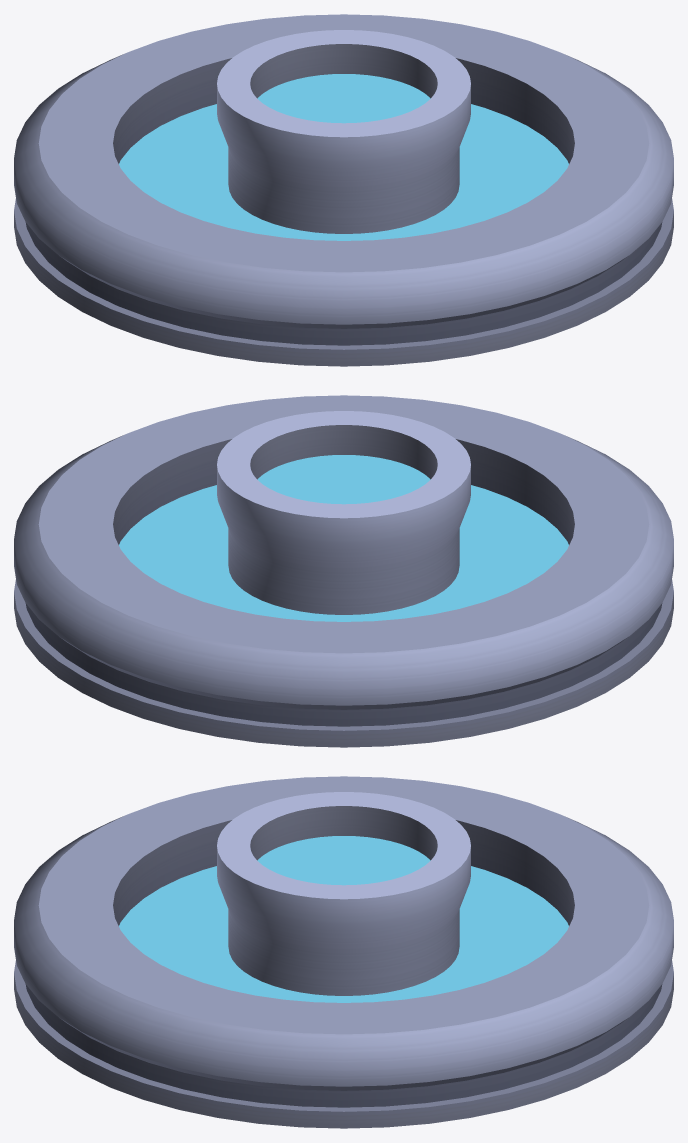
The model's file is fountain-round-detail.fbx.
3 views of the same model, one above another, from view 1: azimuth 30°, elevation 25°; view 2: azimuth 150°, elevation 25°; view 3: azimuth 270°, elevation 25° (orthographic).
Parts seen in each view (by area): view 1: fountain-round-detail, (%ignore); view 2: fountain-round-detail, (%ignore); view 3: fountain-round-detail, (%ignore).
Boxes of the visible parts, bbox=[...] form: fountain-round-detail: bbox=[14, 14, 673, 366]; (%ignore): bbox=[119, 74, 568, 240]; fountain-round-detail: bbox=[14, 395, 673, 747]; (%ignore): bbox=[119, 455, 568, 621]; fountain-round-detail: bbox=[14, 776, 673, 1128]; (%ignore): bbox=[119, 836, 568, 1002].
Bounding box in the file's own units: 200 × 48 × 200.
2 materials, 1 textured.
